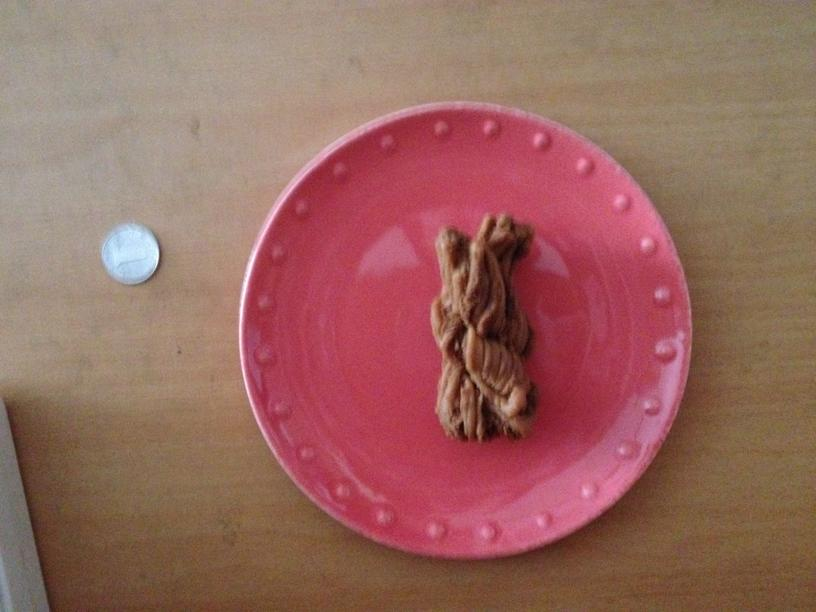coin: (100, 223, 160, 285)
fired_dough_twist: (429, 213, 543, 441)
